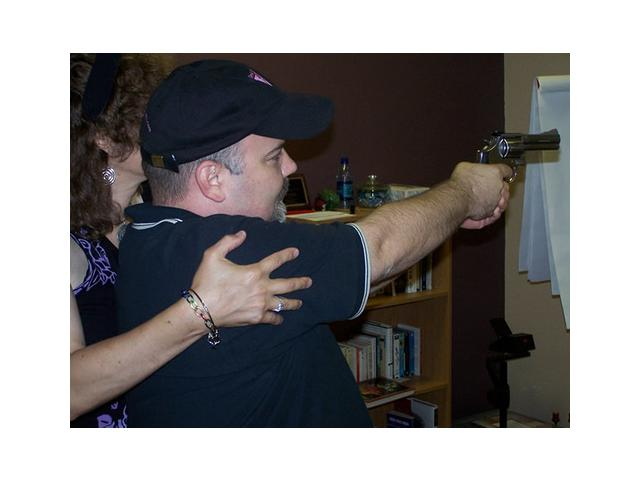pistol: (474, 129, 562, 220)
